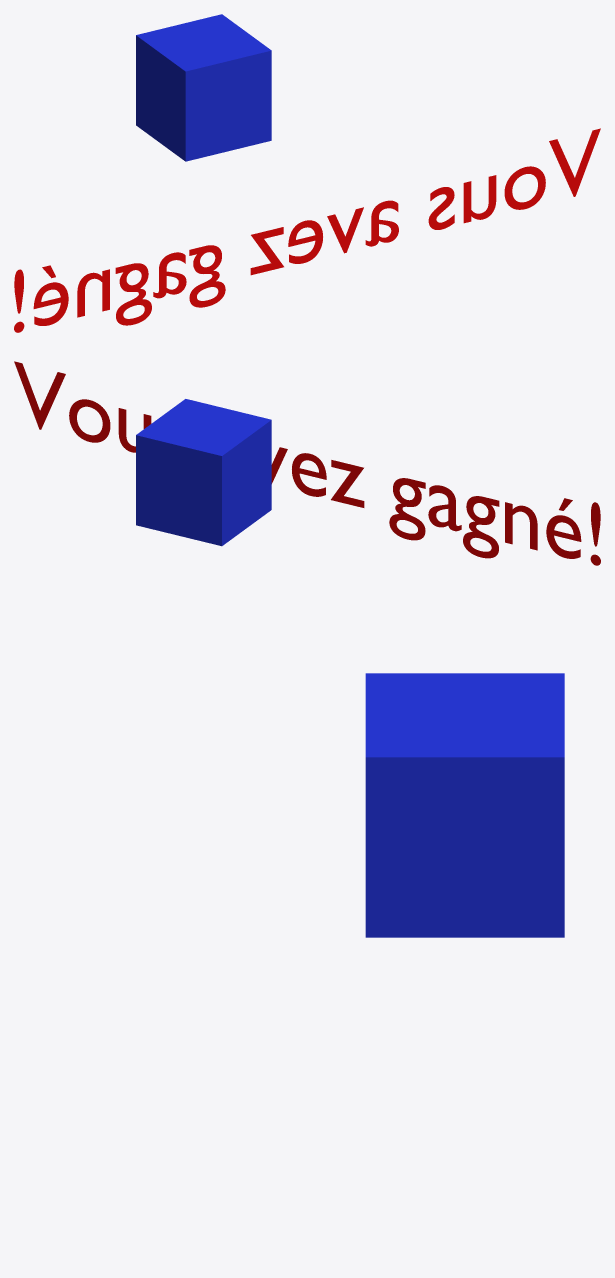
The model's file is sceneDevoir3_victoire.glb.
The picture shows the model from 3 angles, top to bottom: view 1: azimuth 30°, elevation 25°; view 2: azimuth 150°, elevation 25°; view 3: azimuth 270°, elevation 25°; orthographic projection. The views are drawn at different scales.
Parts seen in each view (by area): view 1: Cube, Text; view 2: Cube, Text; view 3: Cube.
Boxes of the visible parts, x1=… form: Cube: x1=136, y1=14, x2=271, y2=161; Text: x1=14, y1=128, x2=600, y2=332; Cube: x1=136, y1=399, x2=271, y2=546; Text: x1=14, y1=361, x2=600, y2=565; Cube: x1=365, y1=673, x2=564, y2=937.
Size of what is drawn, in the model's own units: 68.14 by 18.14 by 25.84.
